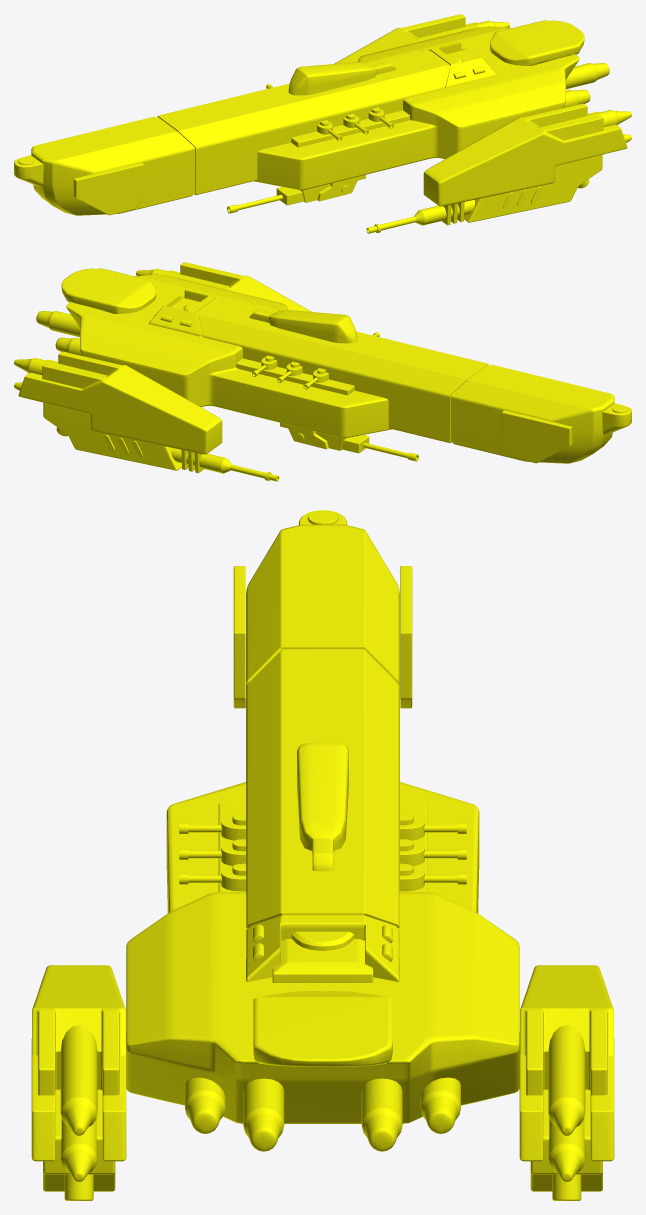
Rendered from destroyer_01.glb.
The picture shows the model from 3 angles, top to bottom: view 1: azimuth 30°, elevation 25°; view 2: azimuth 150°, elevation 25°; view 3: azimuth 270°, elevation 25°; orthographic projection. The views are drawn at different scales.
Parts seen in each view (by area): view 1: Destroyer_1; view 2: Destroyer_1; view 3: Destroyer_1.
Part boxes in pixels (bbox=[...]): Destroyer_1: bbox=[14, 14, 631, 233]; Destroyer_1: bbox=[14, 262, 631, 481]; Destroyer_1: bbox=[31, 510, 614, 1200].
Bounding box in the file's own units: 91 × 19.25 × 39.76.
Materials: 1 (1 with a texture image).
